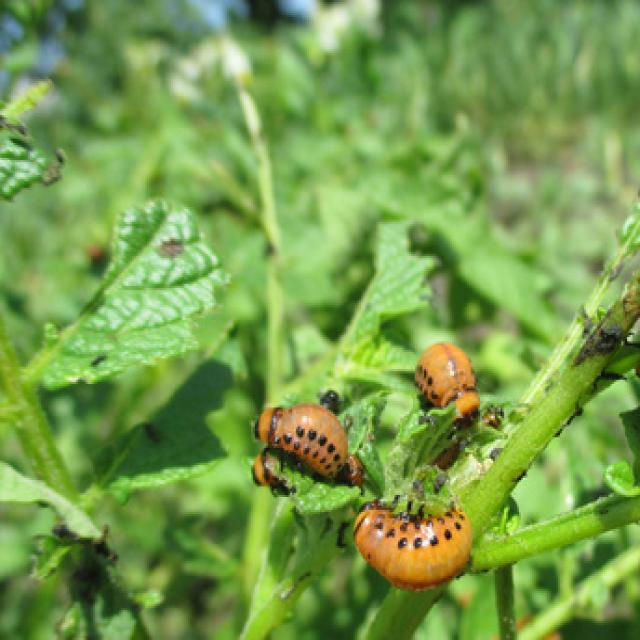ShuCaiHuaBanChong-Larva-: (341, 482, 498, 590), (250, 397, 364, 488), (410, 330, 480, 419)
